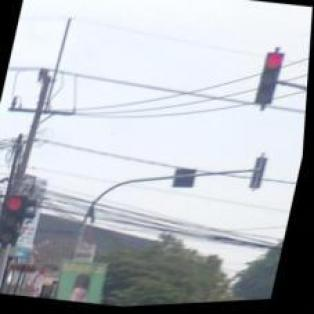Semoforo Rojo: (253, 53, 285, 110), (0, 194, 28, 246)
